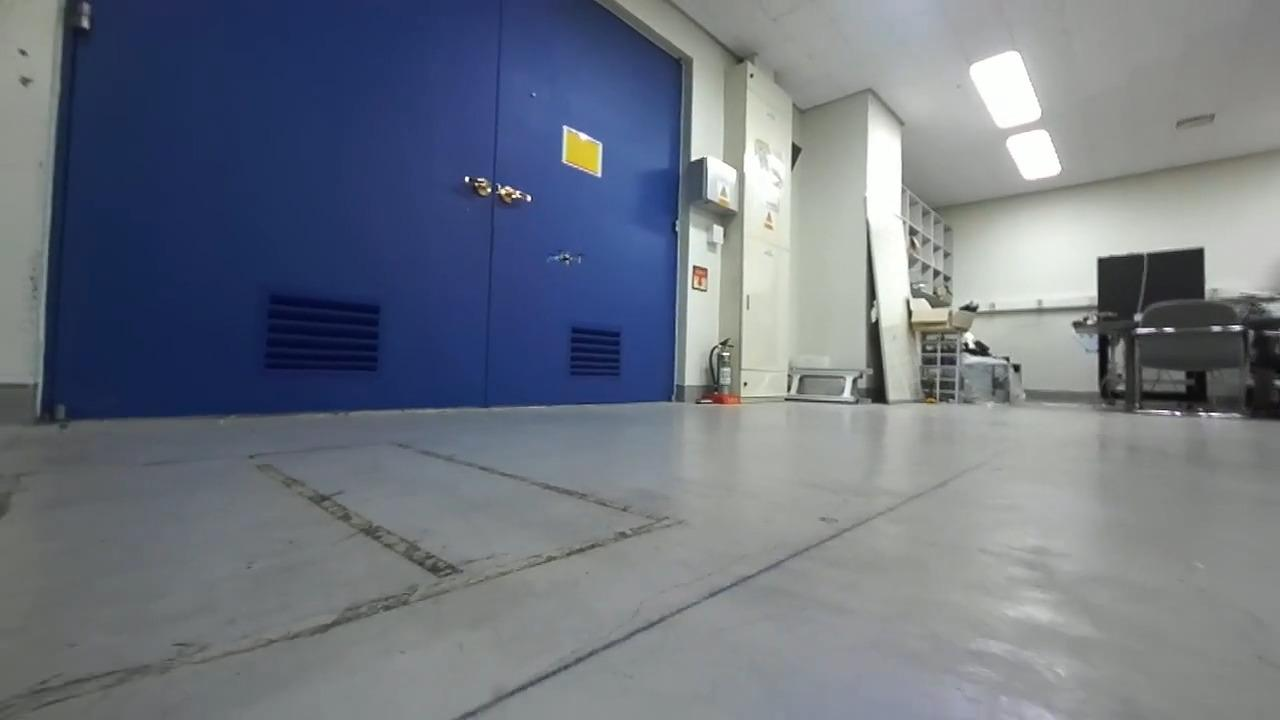crazyflie: (538, 244, 590, 271)
